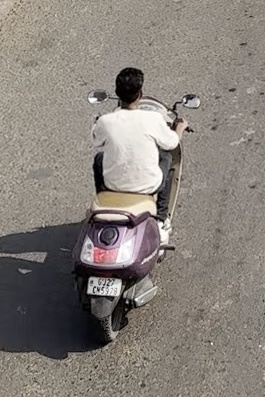BikeWithRider: (68, 55, 210, 345)
NoHelmet: (111, 66, 148, 107)
